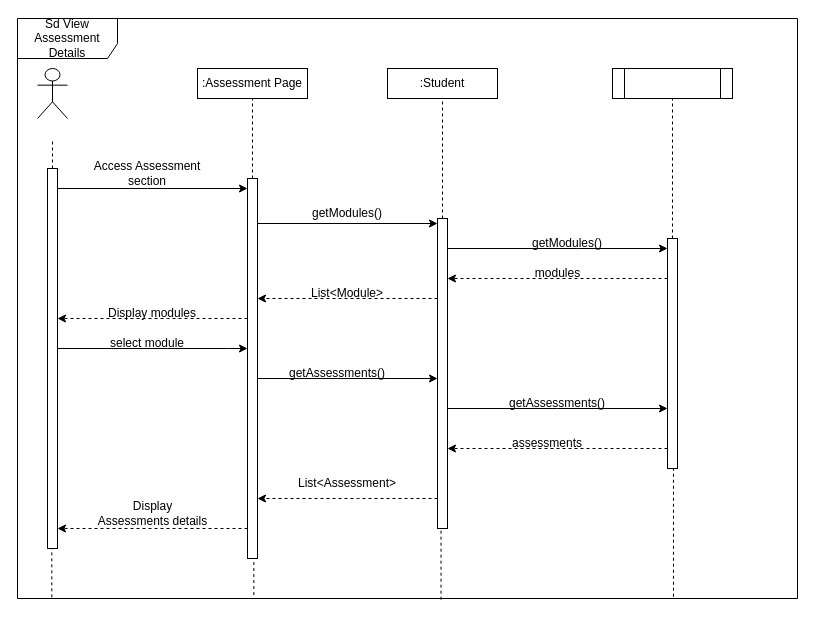
Image size: 815x619. Some labels were removed from this diagram. The shapes that lost their labels are listed below. From the top down, each one's centre as x and y in pixels, then its label:
At pixel 52 93: "Student".
At pixel 672 83: ":Database".
